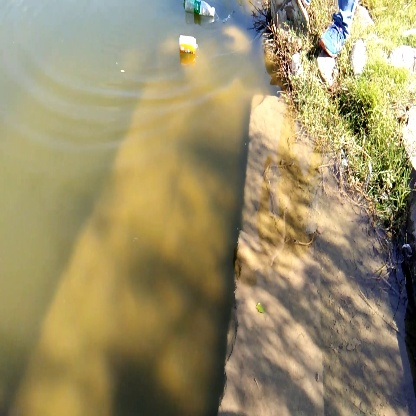bottle: (175, 30, 201, 57)
